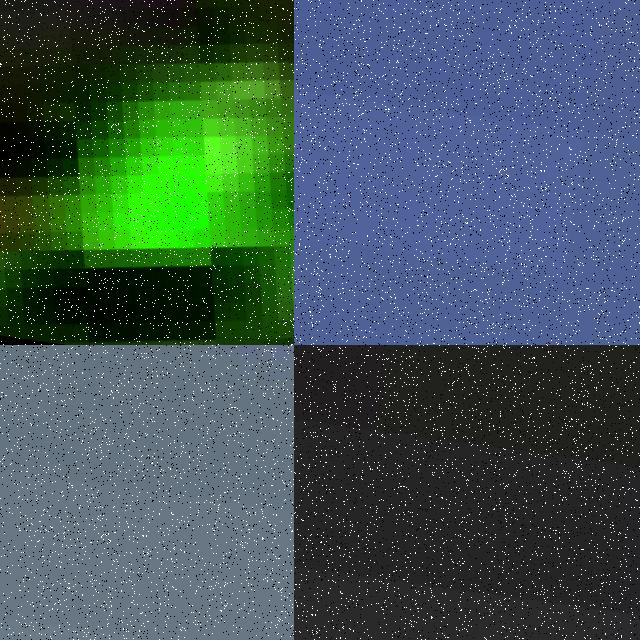drone: (0, 0, 294, 345)
